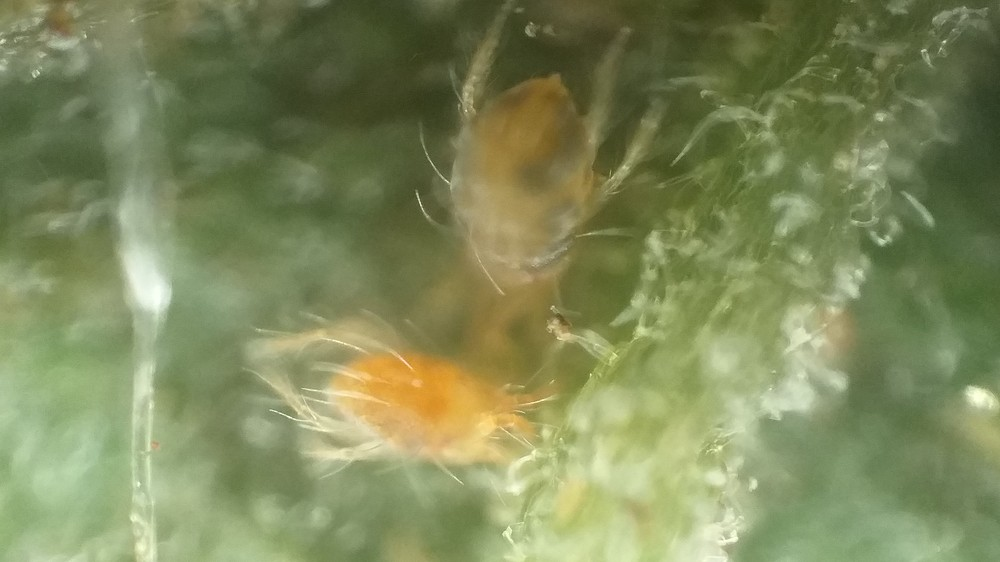Aracnido Rojo: (388, 17, 677, 395), (223, 298, 609, 511)
